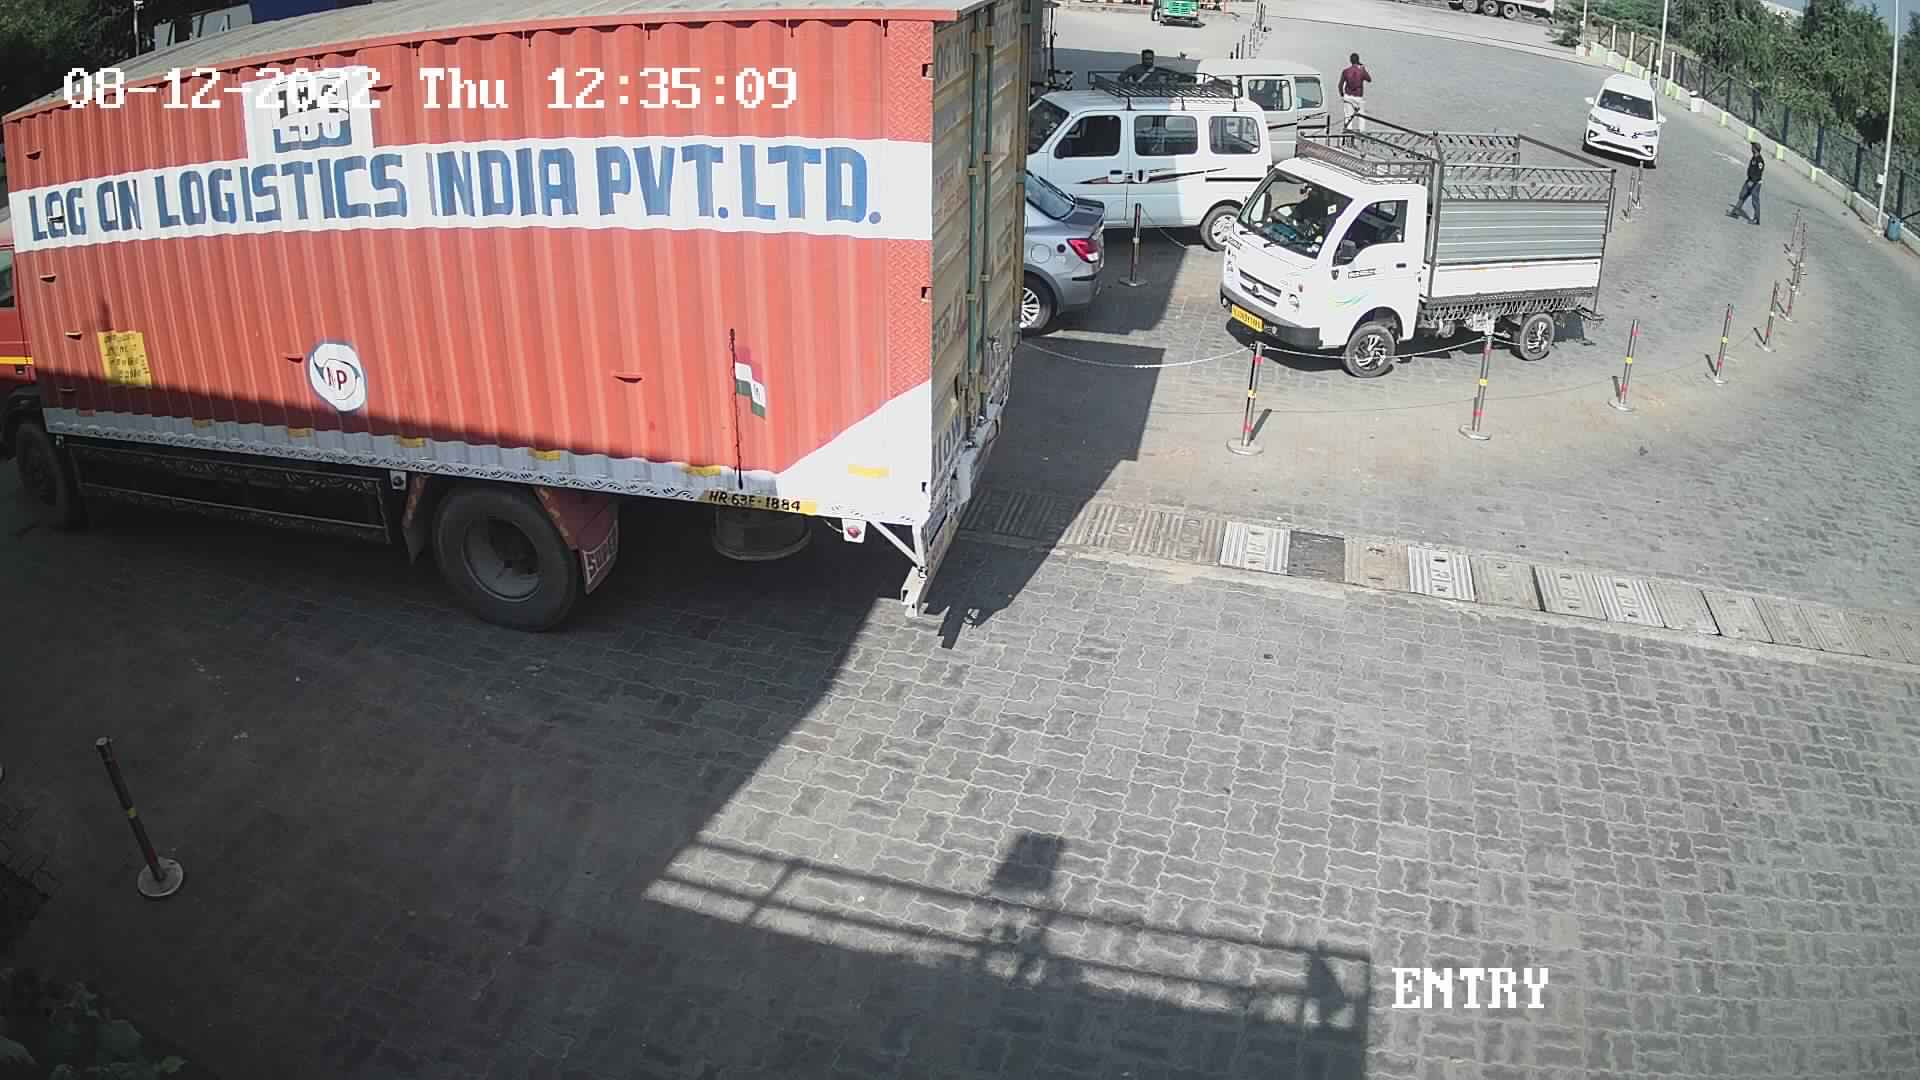Auto: (1145, 1, 1209, 32)
Car: (1197, 90, 1636, 394), (996, 59, 1282, 262), (1110, 51, 1341, 193), (978, 153, 1117, 345), (1569, 62, 1679, 177)
HMV: (3, 0, 1083, 655)
